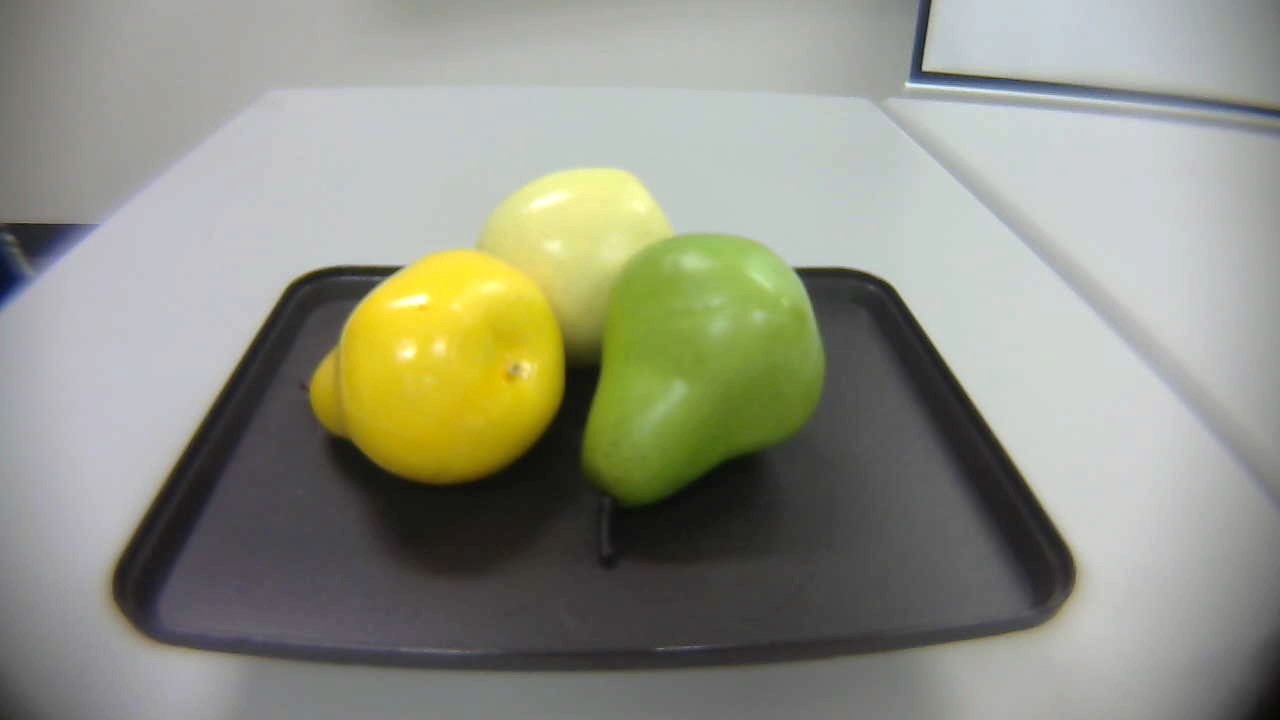green pear: (581, 227, 836, 584)
western pear: (486, 159, 683, 390)
yellow pear: (283, 243, 565, 505)
